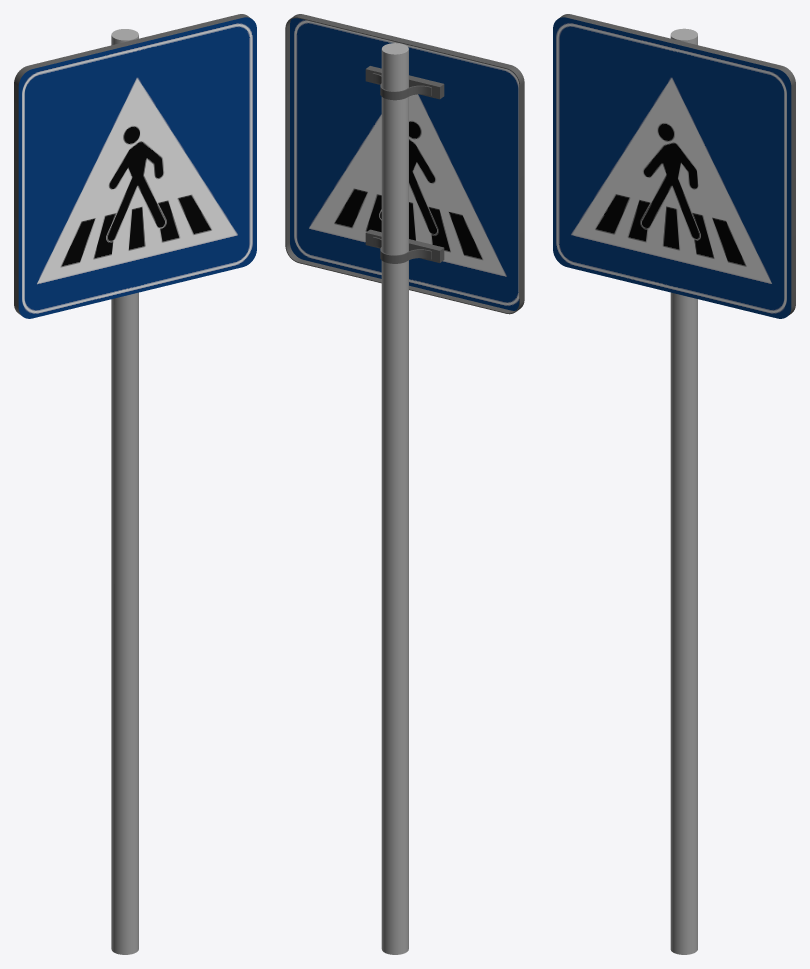
File: T_zebra.dae
3 renders of one model, left to right at view 1: azimuth 30°, elevation 25°; view 2: azimuth 150°, elevation 25°; view 3: azimuth 330°, elevation 25°, orthographic.
Parts seen in each view (by area): view 1: Sign.130, Pole.002; view 2: Sign.130, Pole.002; view 3: Sign.130, Pole.002.
Part boxes in pixels (<box>): Sign.130: <box>14,14,256,318</box>; Pole.002: <box>111,29,138,954</box>; Sign.130: <box>285,14,524,314</box>; Pole.002: <box>381,43,408,954</box>; Sign.130: <box>553,14,795,318</box>; Pole.002: <box>670,28,697,954</box>.
Bounding box in the file's own units: 0.6 × 0.0869 × 2.2.
Materials: 3 (1 with a texture image).
